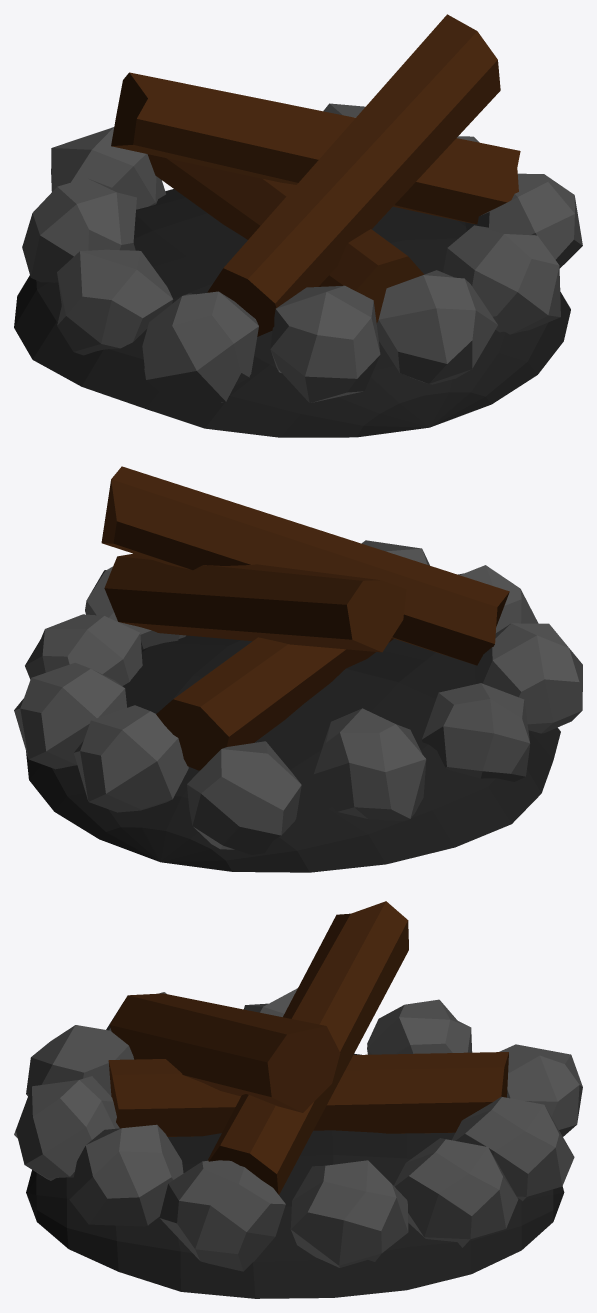
The model's file is firecamp.fbx.
The picture shows the model from 3 angles, top to bottom: view 1: azimuth 30°, elevation 25°; view 2: azimuth 150°, elevation 25°; view 3: azimuth 270°, elevation 25°; orthographic projection. The views are drawn at different scales.
Visible parts, largest first — view 1: Cylinder.001; view 2: Cylinder.001; view 3: Cylinder.001.
Boxes of the visible parts, bbox=[...] form: Cylinder.001: bbox=[14, 14, 582, 437]; Cylinder.001: bbox=[14, 466, 582, 872]; Cylinder.001: bbox=[14, 901, 582, 1298].
Size of the model in its own units: 261 by 134 by 278.
